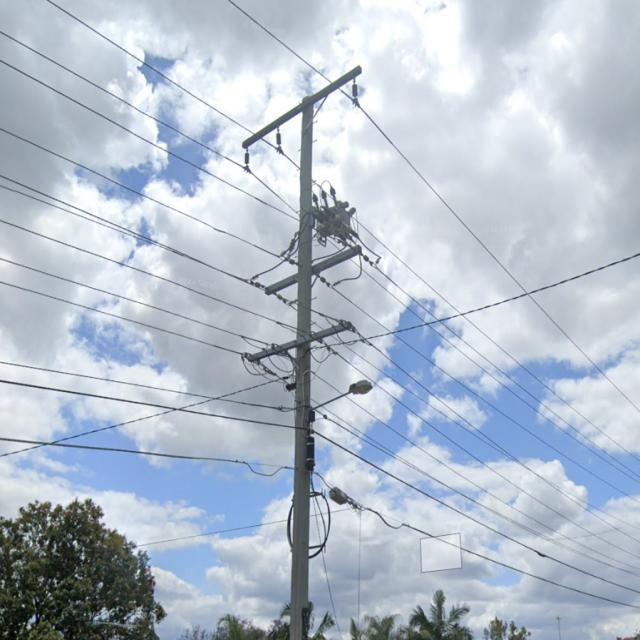HV-switch: (312, 185, 360, 248)
HV-transmission: (242, 64, 362, 174), (250, 238, 377, 306)
crossarm: (242, 64, 362, 150), (264, 244, 362, 296), (246, 320, 355, 364)
streetlight: (309, 379, 374, 412)
timber-pole: (288, 94, 316, 640)
